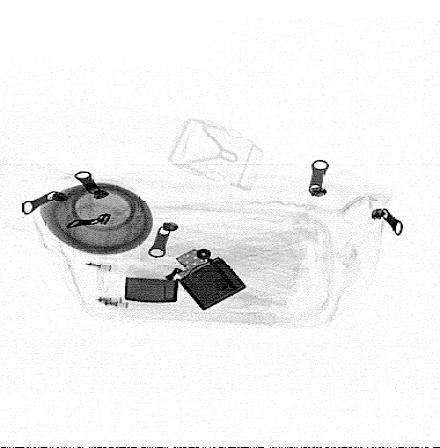Lighter: (124, 248, 246, 311)
